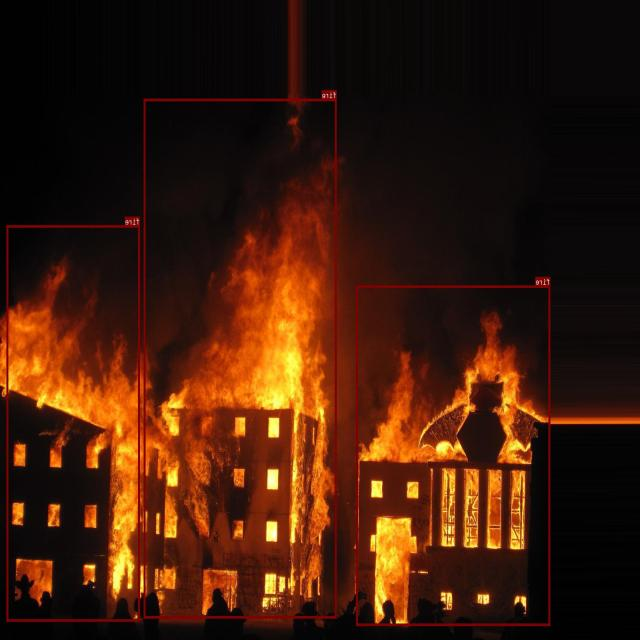fire: (144, 98, 337, 618), (357, 285, 550, 625), (7, 224, 140, 621)
